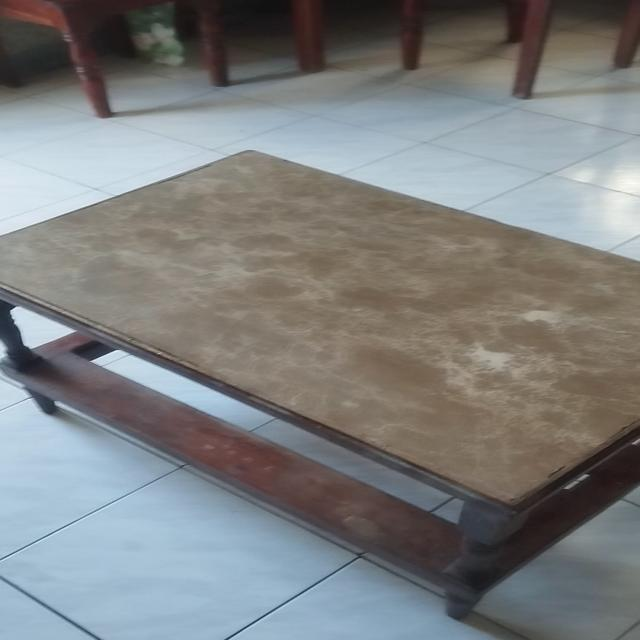table: (0, 148, 640, 613)
